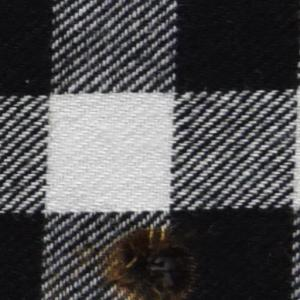Damage: (74, 224, 202, 300)
